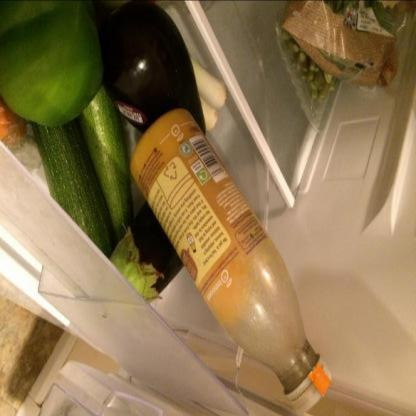Bottle: (290, 362, 333, 415)
Bottle cap: (131, 108, 333, 415)
Plastic bag - wrapper: (281, 0, 416, 92)
Plastic container: (276, 0, 341, 132)
